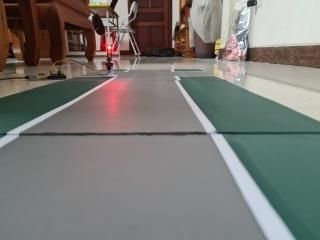red: (101, 41, 117, 71)
